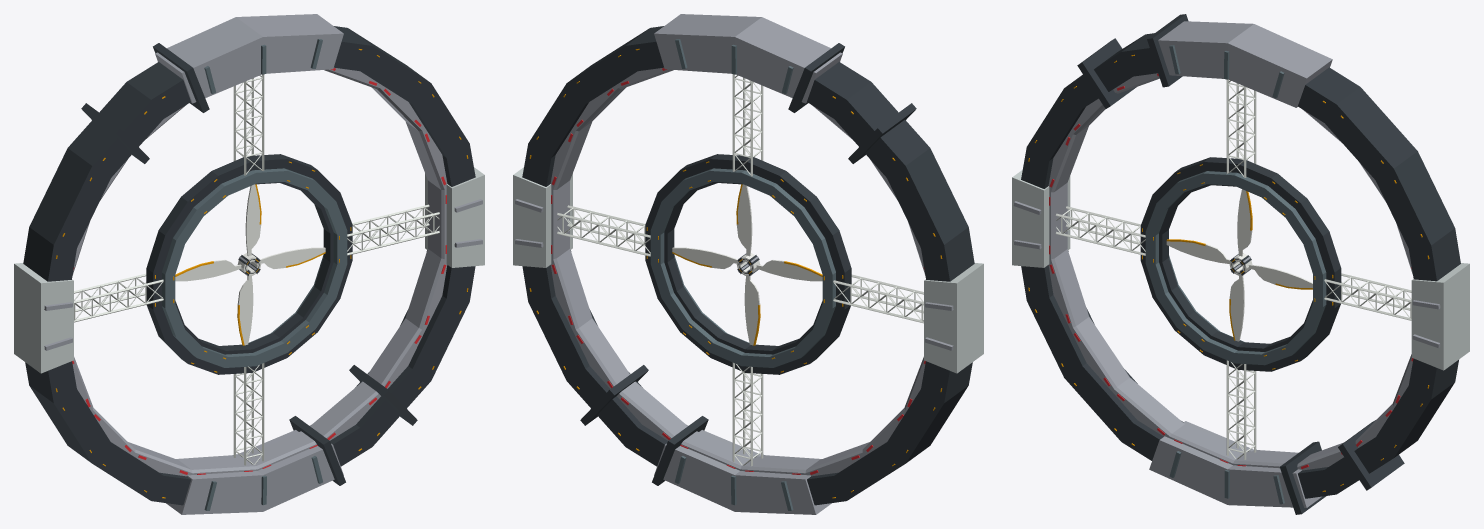
Rendered from fanStation.FBX.
3 renders of one model, left to right at view 1: azimuth 30°, elevation 25°; view 2: azimuth 150°, elevation 25°; view 3: azimuth 330°, elevation 25°, orthographic. The views are drawn at different scales.
Visible parts, largest first — view 1: fanStationBodyA, fanStationBodyB, fan; view 2: fanStationBodyA, fanStationBodyB, fan; view 3: fanStationBodyA, fanStationBodyB, fan.
Part boxes in pixels (<box>): fanStationBodyA: <box>14,14,484,514</box>; fanStationBodyB: <box>23,26,475,505</box>; fan: <box>175,184,325,345</box>; fanStationBodyA: <box>513,14,983,514</box>; fanStationBodyB: <box>522,26,974,505</box>; fan: <box>672,184,822,345</box>; fanStationBodyA: <box>1012,21,1469,507</box>; fanStationBodyB: <box>1021,14,1460,514</box>; fan: <box>1166,189,1312,341</box>.
Bounding box in the file's own units: 235 × 241 × 31.61.
